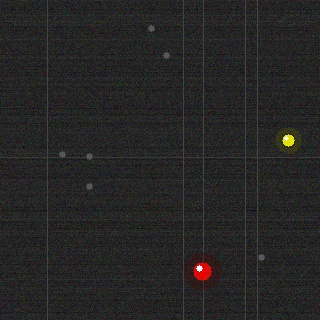red_fault: (191, 260, 213, 282)
yellow_warning: (280, 132, 296, 148)
